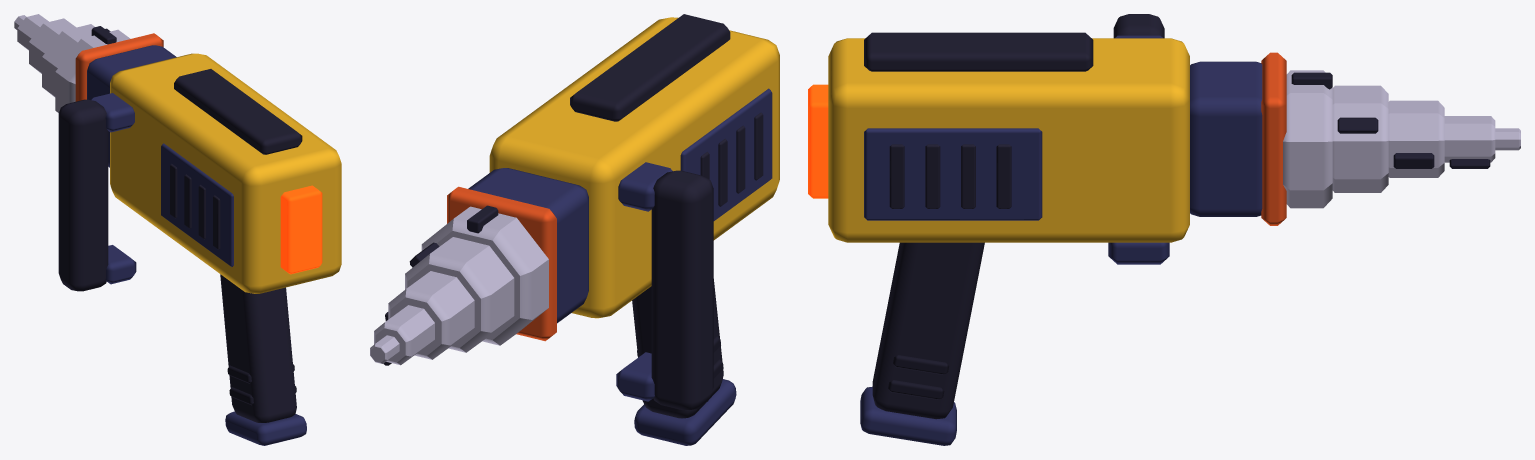
Rendered from mining_drill.glb.
3 renders of one model, left to right at view 1: azimuth 30°, elevation 25°; view 2: azimuth 150°, elevation 25°; view 3: azimuth 270°, elevation 25°, orthographic. The views are drawn at different scales.
Parts seen in each view (by area): view 1: item.mining_drill.body, part.bit; view 2: item.mining_drill.body, part.bit; view 3: item.mining_drill.body, part.bit.
Boxes of the visible parts, bbox=[...] form: item.mining_drill.body: bbox=[58, 33, 341, 445]; part.bit: bbox=[14, 14, 130, 113]; item.mining_drill.body: bbox=[447, 14, 779, 445]; part.bit: bbox=[370, 205, 548, 365]; item.mining_drill.body: bbox=[808, 14, 1286, 445]; part.bit: bbox=[1283, 70, 1520, 208].
Size of the model in its own units: 0.2922 by 0.5315 by 0.875.
